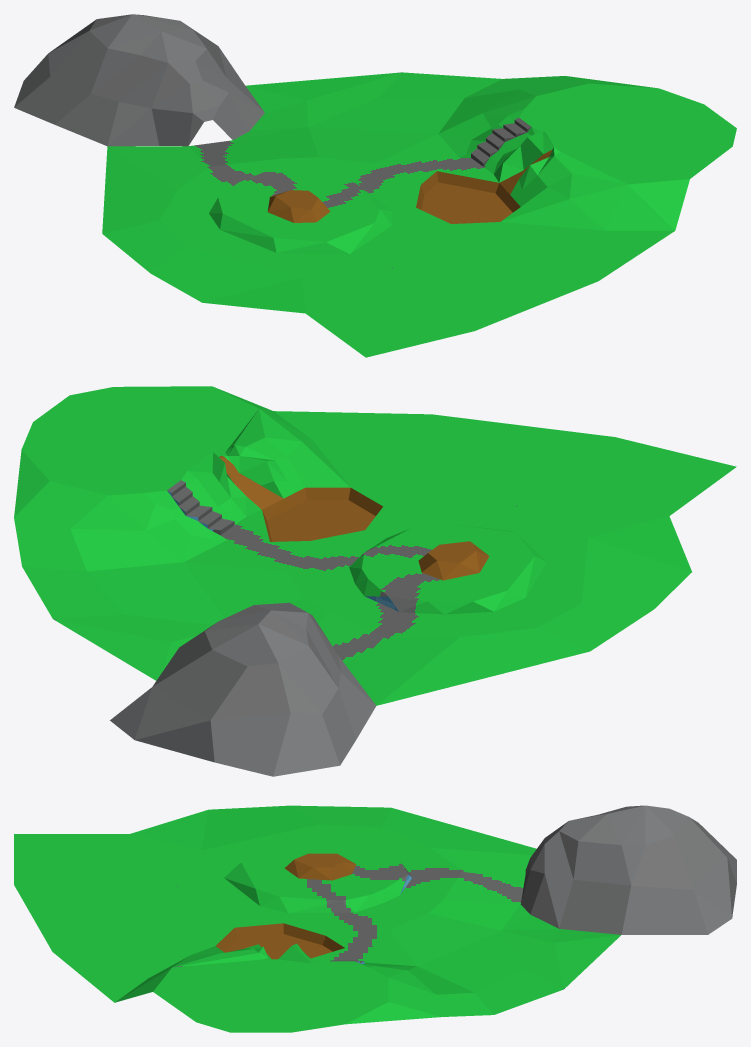
The model's file is mapV0.2.gltf.
3 views of the same model, one above another, from view 1: azimuth 30°, elevation 25°; view 2: azimuth 150°, elevation 25°; view 3: azimuth 270°, elevation 25° (orthographic). The views are drawn at different scales.
Visible parts, largest first — view 1: beveled_cuboid; view 2: beveled_cuboid; view 3: beveled_cuboid.
Boxes of the visible parts, bbox=[...] form: beveled_cuboid: bbox=[14, 14, 736, 357]; beveled_cuboid: bbox=[14, 386, 736, 776]; beveled_cuboid: bbox=[14, 805, 736, 1032].
Bounding box in the file's own units: 7.95 × 1.19 × 9.4.
1 material, 1 textured.
